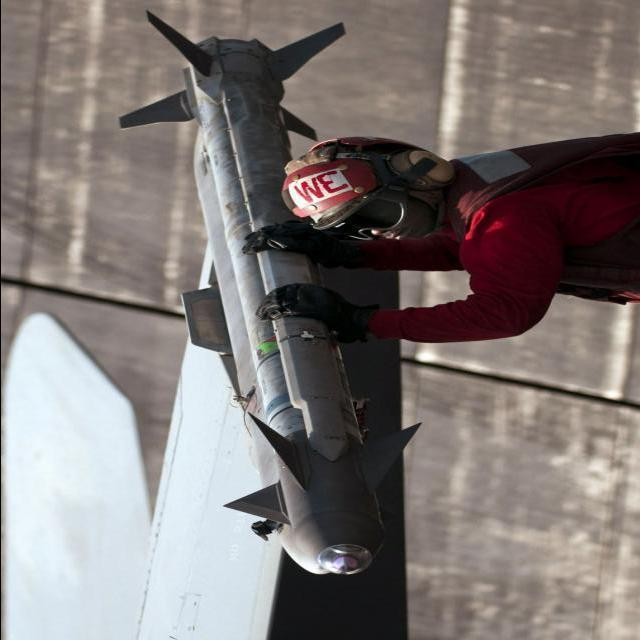missile: (122, 12, 412, 578)
